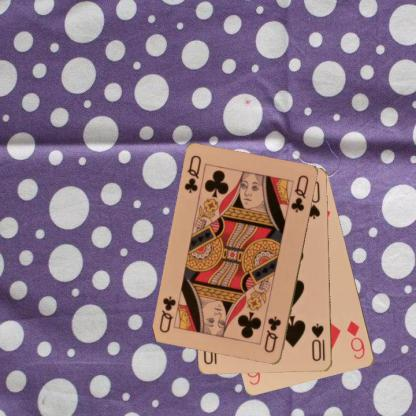10s: (309, 321, 327, 363)
6d: (344, 318, 366, 361)
Qc: (182, 152, 203, 194), (262, 314, 282, 354)
